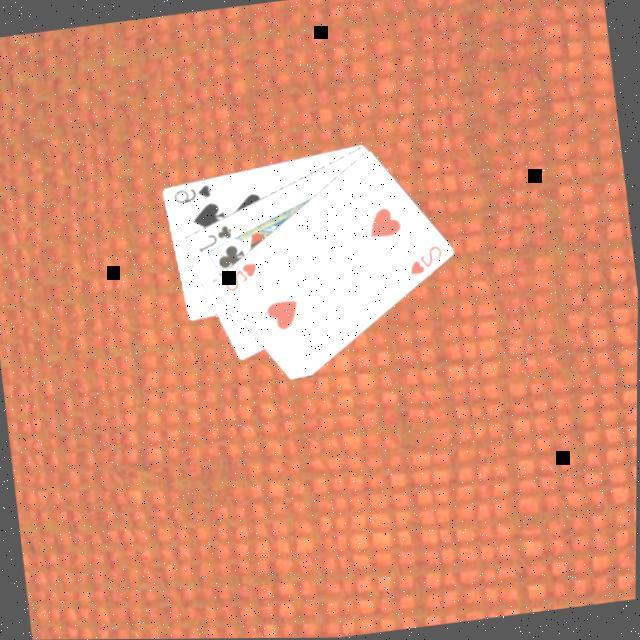2H: (218, 260, 262, 298), (402, 243, 446, 281)
9S: (168, 182, 215, 208)
JC: (190, 223, 235, 258)
